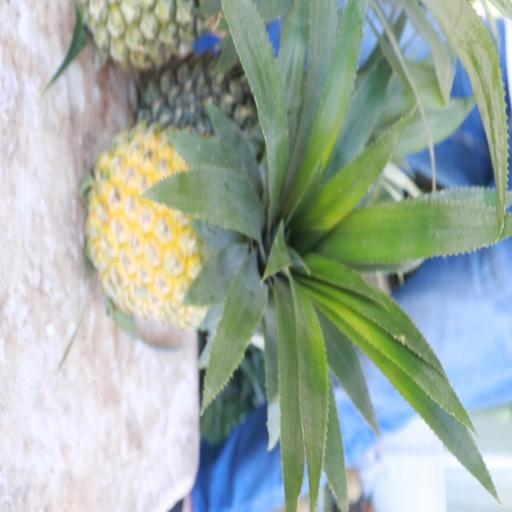Pineapple - v8 v1: (89, 120, 318, 329)
